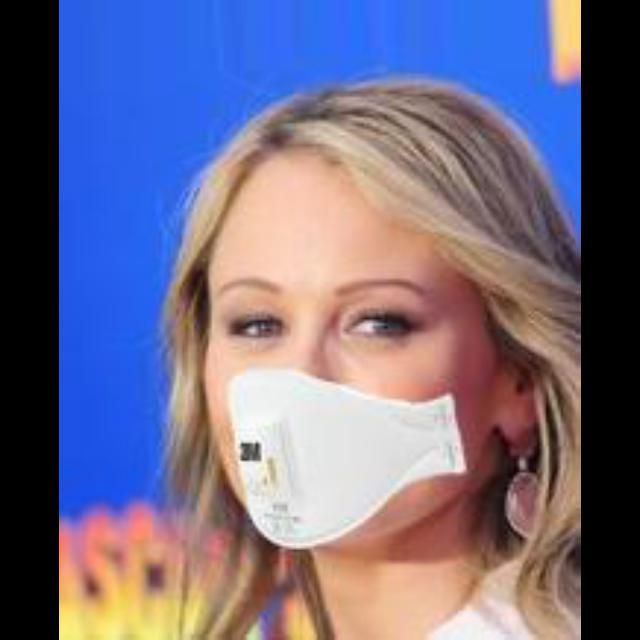suspicion: (169, 70, 559, 558)
